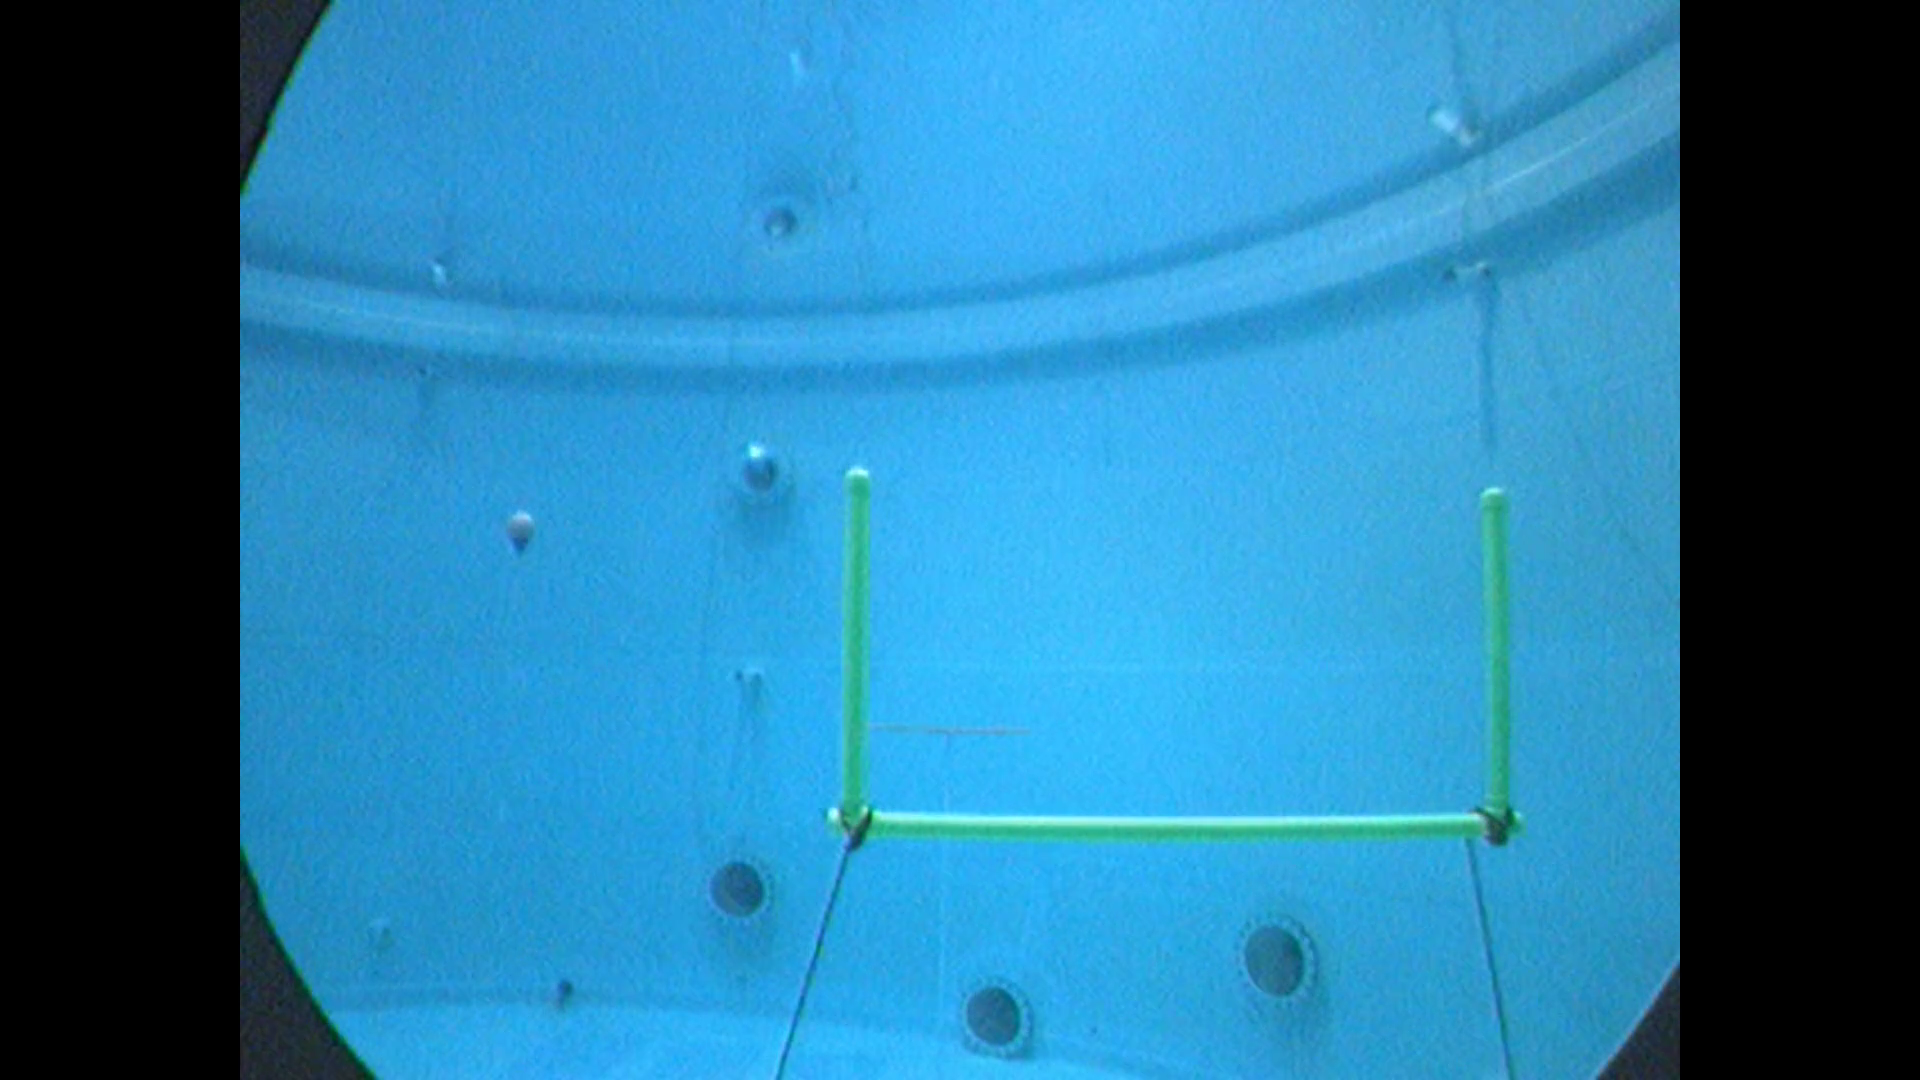gate: (814, 464, 1531, 858)
